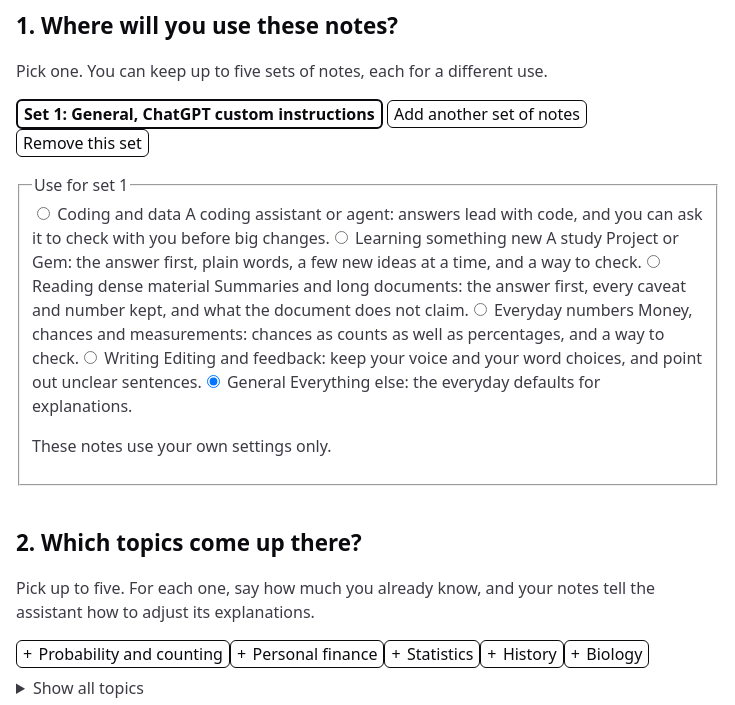
what HumanBench results add (proposal §3.1) › says for Writing that HumanBench adds little and the notes never use results, and follows the chosen use
This screenshot has width=735, height=705.
(page scrolled)
Check: the text with test id "results-note" reads "These notes use your own settings only.", box [32,435,332,457]
Click the 5th radio button.
click(91, 358)  # box [84,351,97,364]
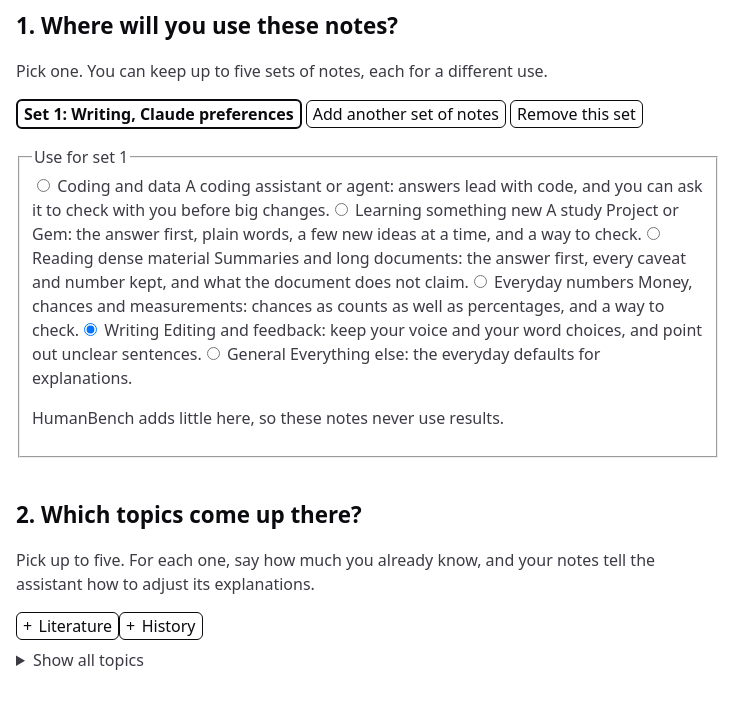
Check: the text with test id "results-note" reads "HumanBench adds little here, so these notes never use results.", box [32,407,504,429]
Click the 1st radio button.
click(44, 186)  # box [37,179,50,192]
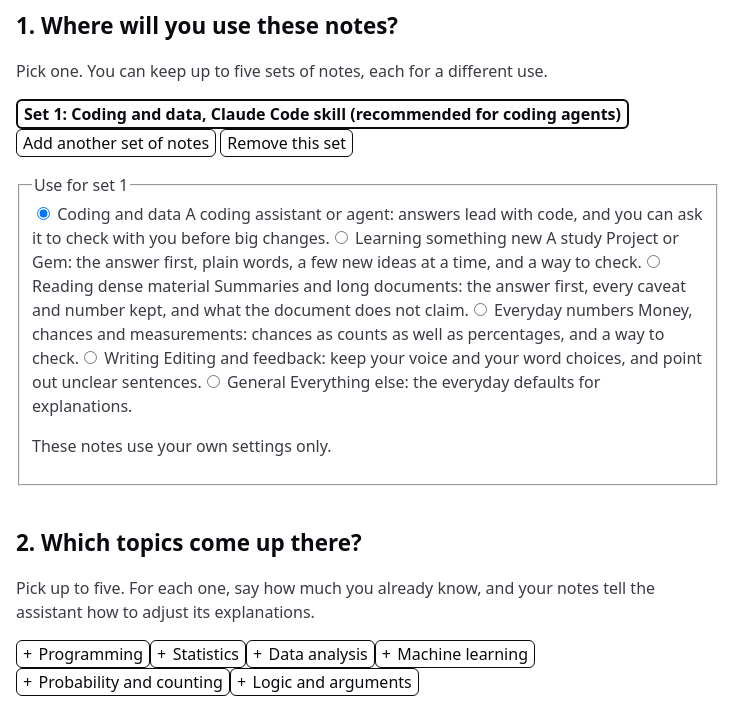
Check: the text with test id "results-note" reads "These notes use your own settings only.", box [32,435,332,457]
